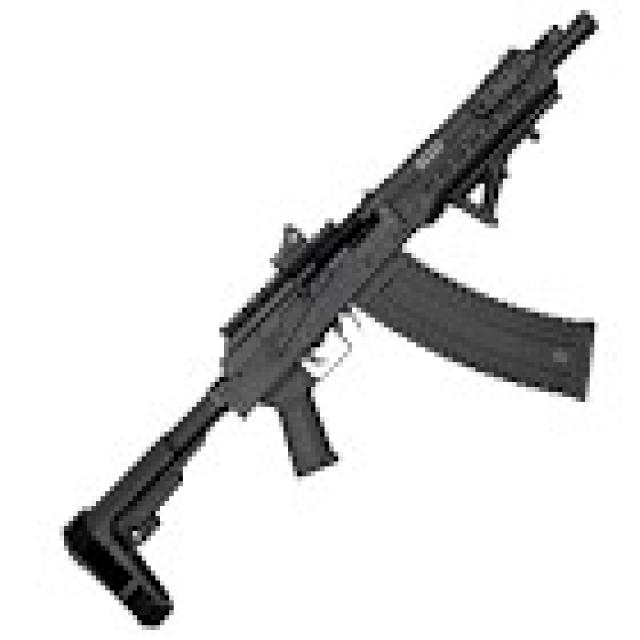rifle: (67, 3, 614, 632)
